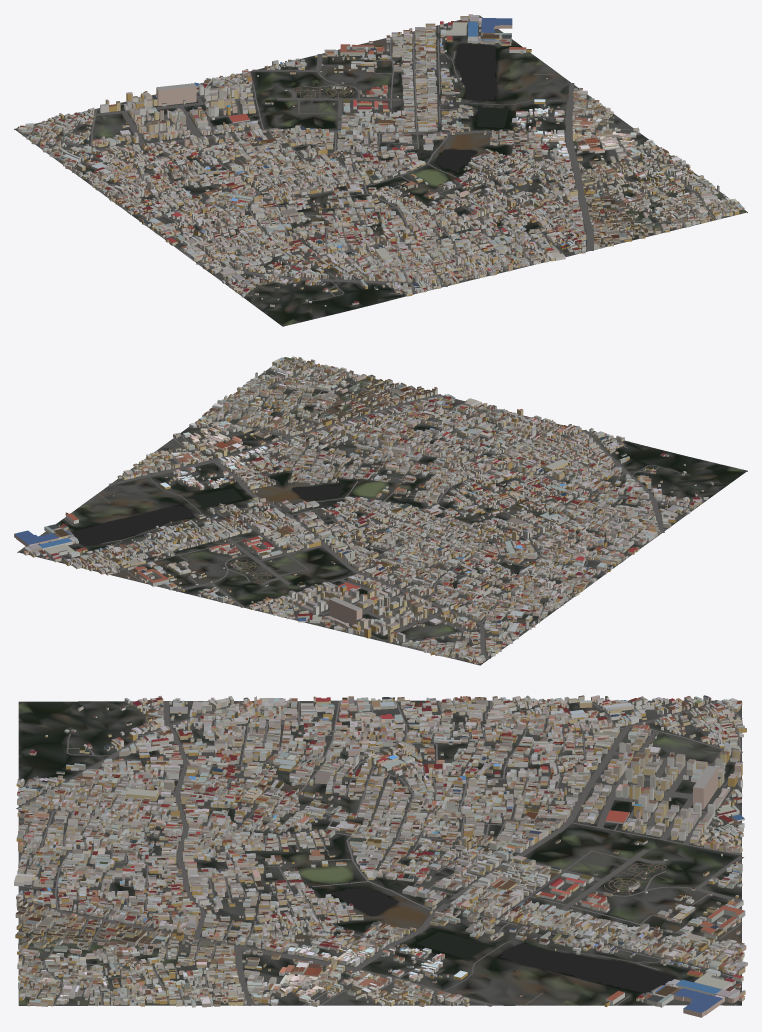
3 renders of one model, top to bottom at view 1: azimuth 30°, elevation 25°; view 2: azimuth 150°, elevation 25°; view 3: azimuth 270°, elevation 25°, orthographic. The views are drawn at different scales.
Visible parts, largest first — view 1: buildings, ground, roads, water; view 2: buildings, ground, roads, water; view 3: buildings, ground, roads, water.
Part boxes in pixels (x1,y1,x2,y2): buildings: (17, 14, 744, 306); ground: (14, 15, 747, 326); roads: (22, 16, 734, 300); water: (435, 44, 509, 171); buildings: (14, 356, 713, 664); ground: (17, 357, 747, 665); roads: (20, 364, 703, 659); water: (72, 484, 345, 545); buildings: (14, 695, 747, 1017); ground: (18, 700, 741, 1005); roads: (16, 700, 743, 1006); water: (329, 888, 676, 993).
Bounding box in the file's own units: 1461 × 51.91 × 1421.
